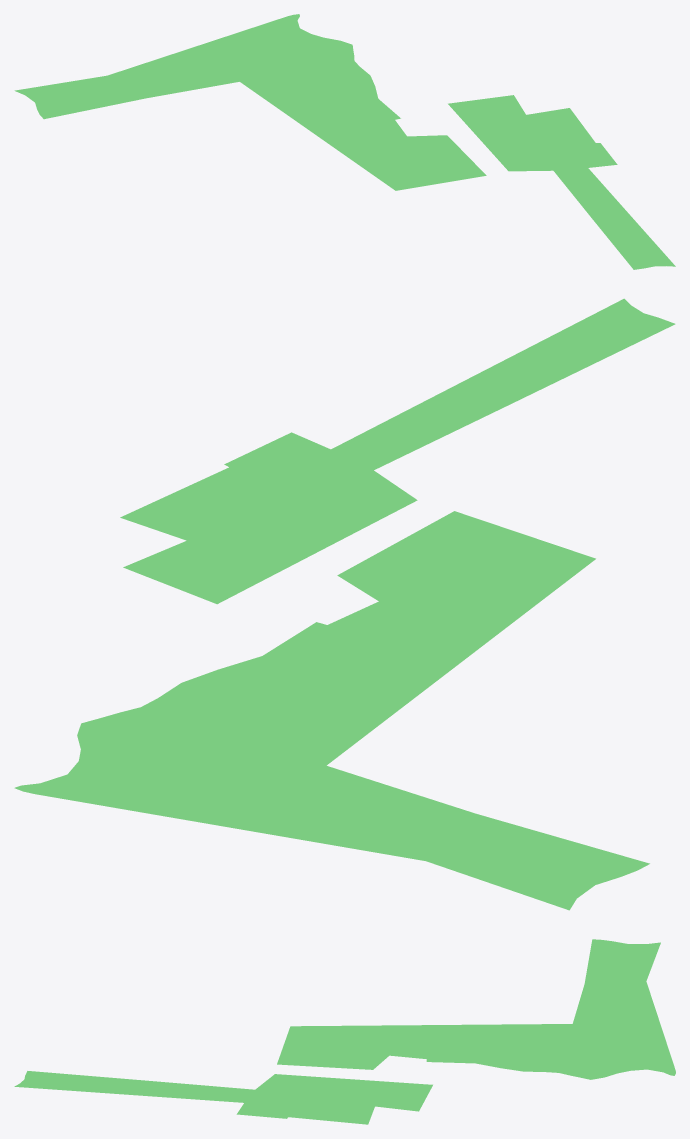
The model's file is Parque_Guaymaral.fbx.
The picture shows the model from 3 angles, top to bottom: view 1: azimuth 30°, elevation 25°; view 2: azimuth 150°, elevation 25°; view 3: azimuth 270°, elevation 25°; orthographic projection. The views are drawn at different scales.
Parts seen in each view (by area): view 1: PolyShape, PolyShape__1_; view 2: PolyShape, PolyShape__1_; view 3: PolyShape, PolyShape__1_.
Part boxes in pixels (box(x1,y1,x2,y2)): PolyShape: box(14, 14, 486, 190); PolyShape__1_: box(448, 95, 675, 269); PolyShape: box(14, 511, 649, 910); PolyShape__1_: box(120, 298, 675, 604); PolyShape: box(277, 939, 675, 1079); PolyShape__1_: box(14, 1071, 432, 1124).
Size of the model in its own units: 173307 by 0 by 261455.
